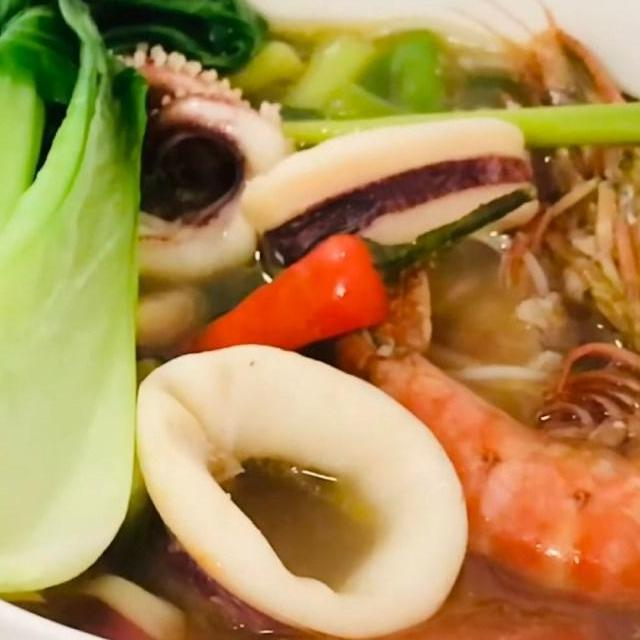muc: (120, 337, 477, 640), (238, 107, 547, 299), (76, 39, 304, 289)
tom: (321, 10, 640, 630)
